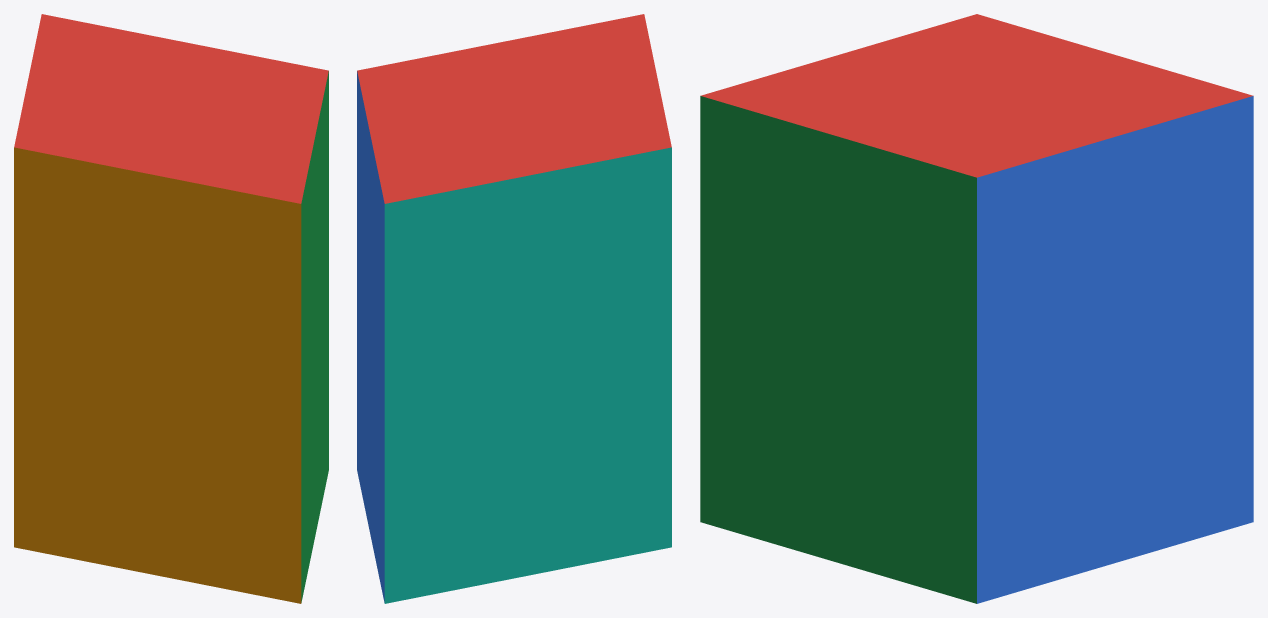
The model's file is prisma-belah-ketupat.glb.
3 renders of one model, left to right at view 1: azimuth 30°, elevation 25°; view 2: azimuth 150°, elevation 25°; view 3: azimuth 270°, elevation 25°, orthographic. The views are drawn at different scales.
Parts seen in each view (by area): view 1: tegak3, atas, tegak2; view 2: tegak4, atas, tegak1; view 3: tegak1, tegak2, atas.
Part boxes in pixels (x1=…): tegak3: x1=14, y1=147, x2=301, y2=603; atas: x1=14, y1=14, x2=328, y2=203; tegak2: x1=301, y1=71, x2=328, y2=602; tegak4: x1=384, y1=147, x2=671, y2=603; atas: x1=357, y1=14, x2=671, y2=203; tegak1: x1=357, y1=71, x2=384, y2=602; tegak1: x1=977, y1=96, x2=1253, y2=603; tegak2: x1=700, y1=96, x2=976, y2=603; atas: x1=700, y1=14, x2=1253, y2=177.
Size of the model in its own units: 1.4 by 1.7 by 2.
